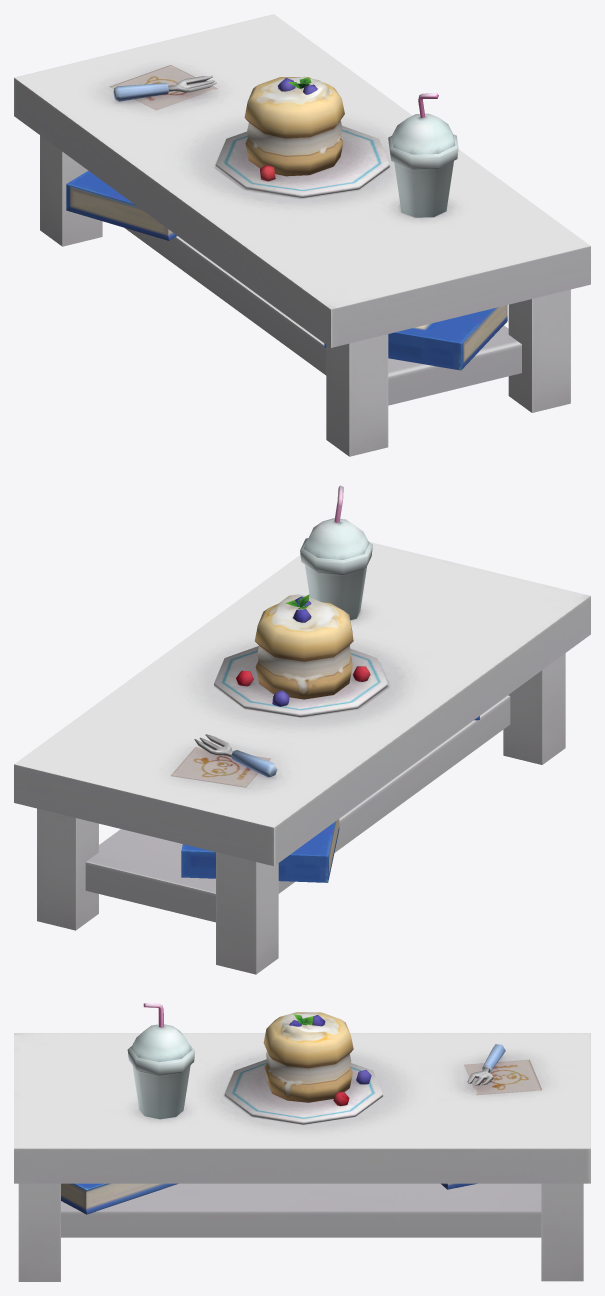
File: my_cafe_01_b_table_02.glb
The picture shows the model from 3 angles, top to bottom: view 1: azimuth 30°, elevation 25°; view 2: azimuth 150°, elevation 25°; view 3: azimuth 270°, elevation 25°; orthographic projection. The views are drawn at different scales.
Parts seen in each view (by area): view 1: my_cafe_01_b_table_02; view 2: my_cafe_01_b_table_02; view 3: my_cafe_01_b_table_02.
Part boxes in pixels (left/top/right/bottom): my_cafe_01_b_table_02: left=14, top=14, right=590, bottom=456; my_cafe_01_b_table_02: left=14, top=485, right=590, bottom=974; my_cafe_01_b_table_02: left=14, top=1003, right=590, bottom=1281.
Size of the model in its own units: 0.00464 by 0.00467 by 0.00975.
Materials: 1 (1 with a texture image).
